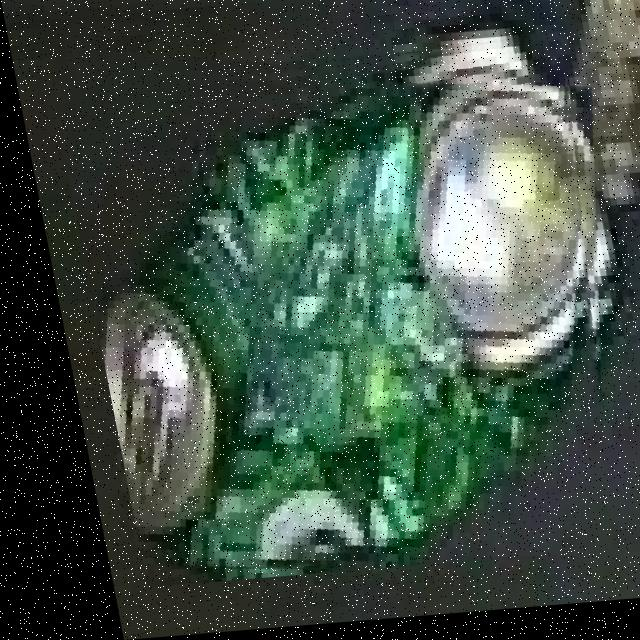can: (45, 41, 637, 588)
